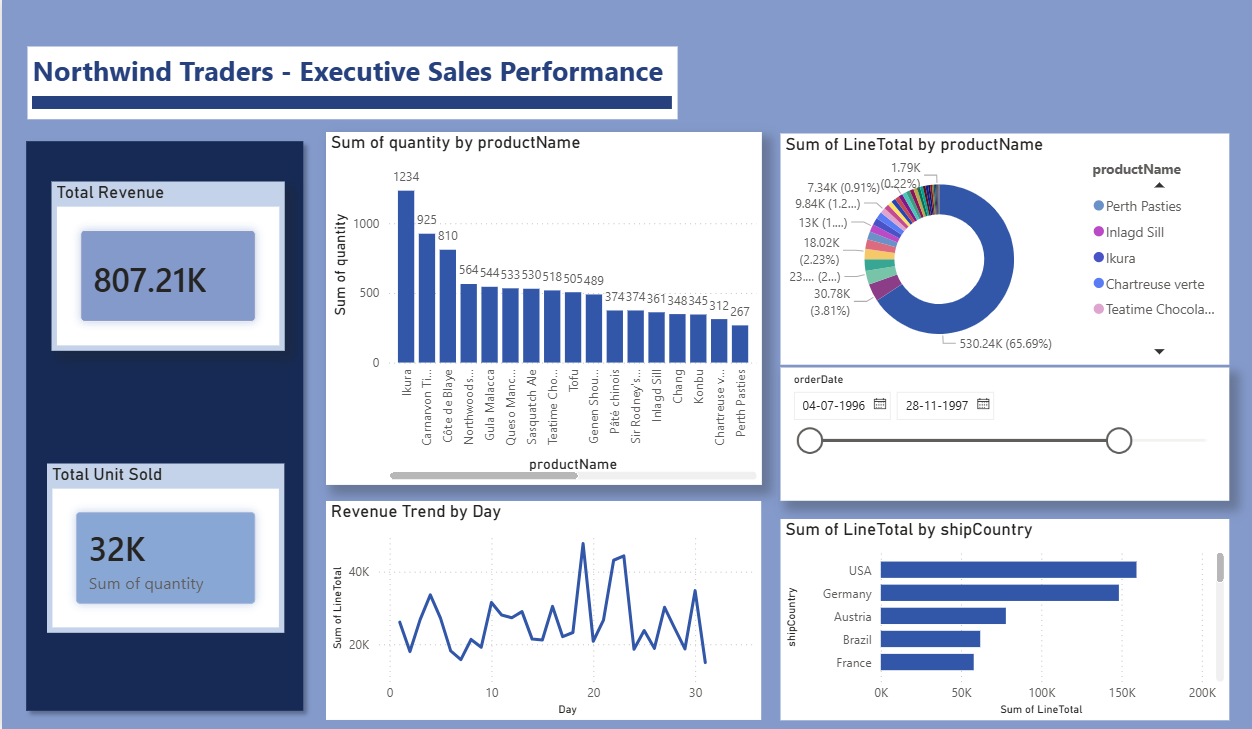

Layout of this report page (visuals, bound fields, positions):
{"tool":"powerbi","page":{"name":"Page 1","canvas":[1280,720],"ordinal":0},"visuals":[{"type":"shape","box":[14.7,132.4,289.7,576.5],"z":0},{"type":"cardVisual","title":"Total Revenue","fields":{"Data":["Sum(order_detail.LineTotal)"]},"box":[48.6,181.4,228.6,165.7],"z":1000},{"type":"clusteredColumnChart","fields":{"Category":["product.productName"],"Y":["Sum(order_detail.quantity)"]},"box":[317.1,132.9,427.1,345.7],"z":2000},{"type":"slicer","fields":{"Values":["order_updated (2).orderDate"]},"box":[763.2,363.2,439.7,130.9],"z":3000},{"type":"textbox","box":[25.7,48.6,637.1,71.4],"z":4000},{"type":"shape","box":[30,97.1,627.1,12.9],"z":5000},{"type":"cardVisual","title":"Total Unit Sold","fields":{"Data":["Sum(order_detail.quantity)"]},"box":[44.3,457.1,232.9,165.7],"z":6000},{"type":"donutChart","fields":{"Y":["Sum(order_detail.LineTotal)"],"Category":["product.productName"]},"box":[763.2,133.8,439.7,226.5],"z":7000},{"type":"lineChart","title":"Revenue Trend by Day","fields":{"Y":["Sum(order_detail.LineTotal)","Sum(order_detail.LineTotal)"],"Category":["order_updated (2).orderDate.Variation.Date Hierarchy.Quarter","order_updated (2).orderDate.Variation.Date Hierarchy.Month","order_updated (2).orderDate.Variation.Date Hierarchy.Day"]},"box":[317.6,494.1,426.5,214.7],"z":8000},{"type":"clusteredBarChart","fields":{"Y":["Sum(order_detail.LineTotal)"],"Category":["order_updated (2).shipCountry"]},"box":[763.2,511.8,439.7,197.1],"z":9000}]}

Visuals, with their boxes in screenshot pixels (x1, y1, x2, y2):
shape: 34, 136, 324, 712
"Total Revenue" cardVisual: 68, 185, 297, 350
clusteredColumnChart - product.productName x Sum(order_detail.quantity): 337, 136, 764, 482
slicer - order_updated (2).orderDate: 783, 366, 1223, 497
textbox: 45, 52, 682, 123
shape: 50, 100, 677, 113
"Total Unit Sold" cardVisual: 64, 460, 297, 626
donutChart - Sum(order_detail.LineTotal) x product.productName: 783, 137, 1223, 364
"Revenue Trend by Day" lineChart: 337, 497, 764, 712
clusteredBarChart - Sum(order_detail.LineTotal) x order_updated (2).shipCountry: 783, 515, 1223, 712
